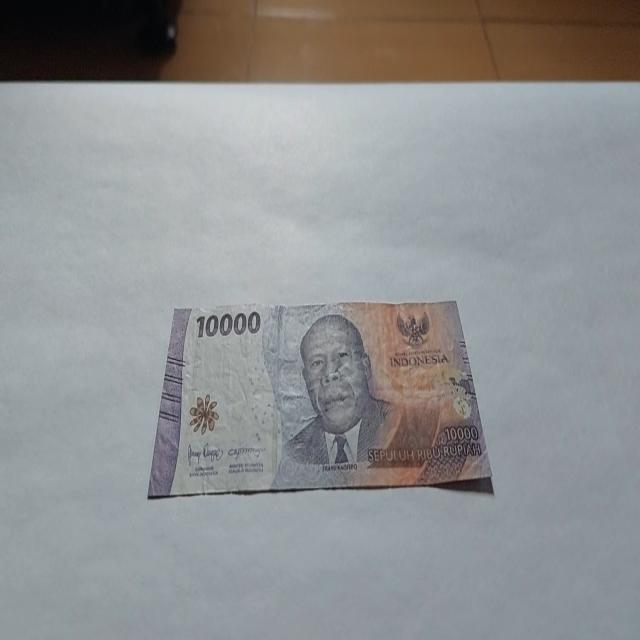sepuluh ribu rupiah: (147, 298, 494, 500)
